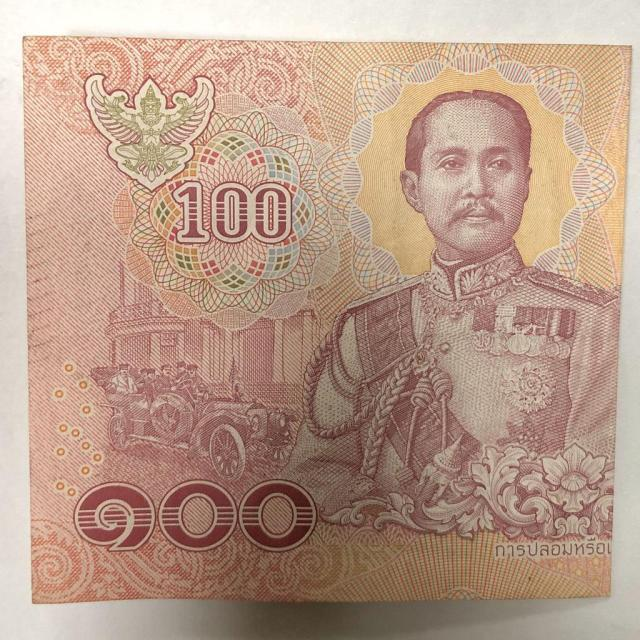THAI100: (23, 36, 632, 603)
